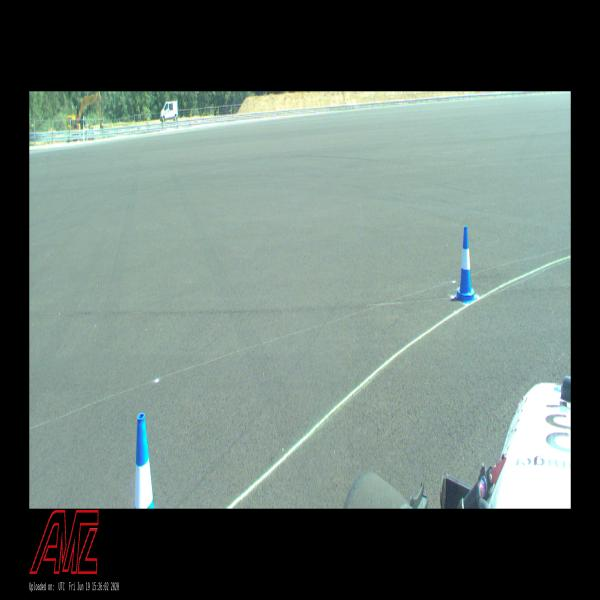blue_cone: (133, 412, 155, 509), (454, 226, 477, 304)
